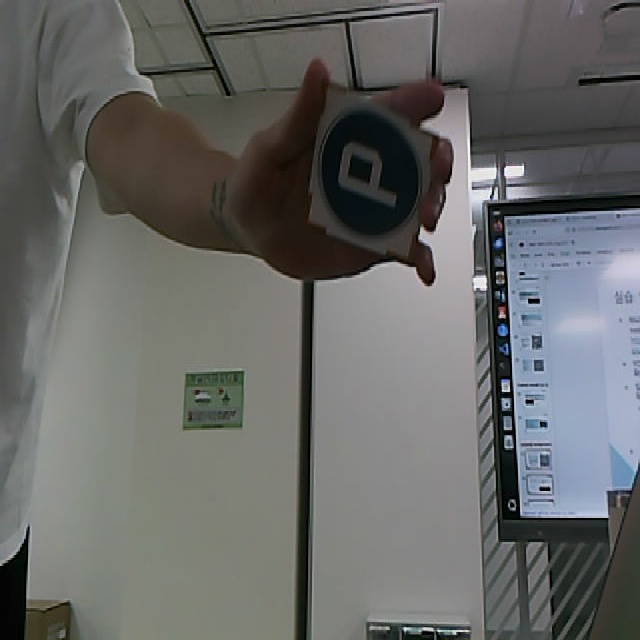parking: (303, 82, 439, 267)
